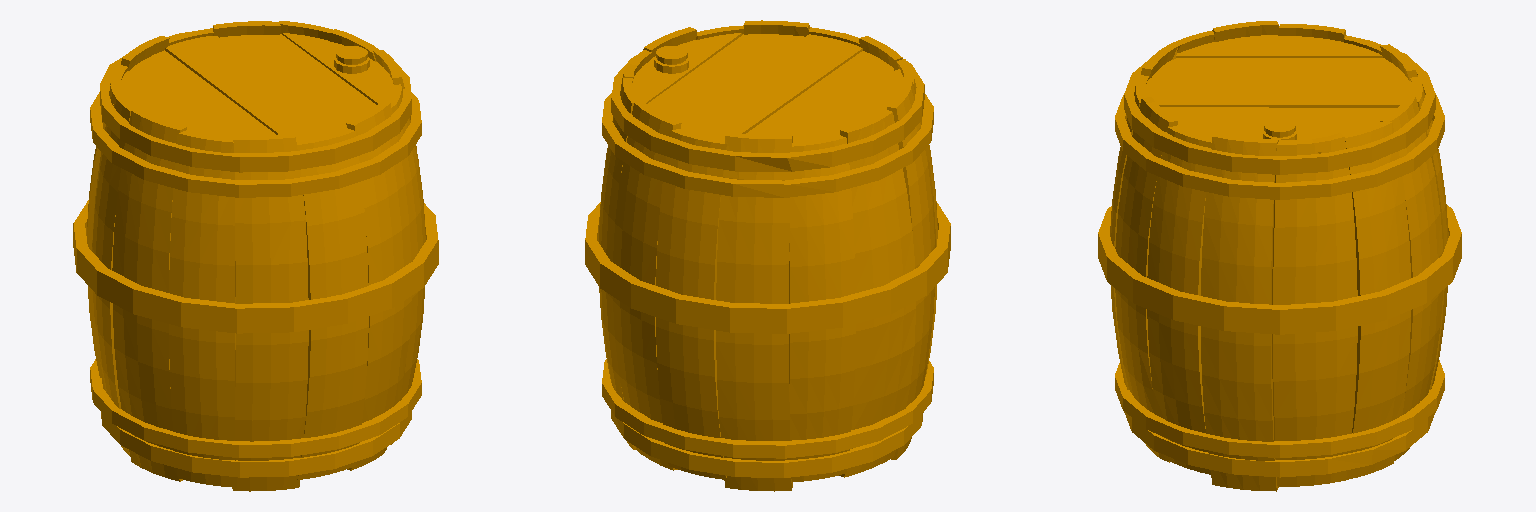
URDF robot description (mesh_object):
<robot name="mesh_object">
            <link name="base">
                <visual>
                    <geometry>
                        <mesh filename="barrel_4_v000.obj" scale="1 1 1" />
                    </geometry>
                </visual>
                <collision>
                    <geometry>
                        <mesh filename="barrel_4_v000.obj" scale="1 1 1" />
                    </geometry>
                </collision>
                <inertial>
                    <origin xyz="0.000000 0.000000 0.047089" rpy="0 0 0" />
                    <mass value="0.500000" />
                    <inertia ixx="0.01" iyy="0.01" izz="0.01" ixy="0" ixz="0" iyz="0" />
                </inertial>
            </link>
            </robot>

--- What the picture shows (computed from the rendered views, not written in the file) ---
Views: 3 orthographic renders of the robot side by side, from view 1: azimuth 30°, elevation 25°; view 2: azimuth 150°, elevation 25°; view 3: azimuth 270°, elevation 25°.
Model mesh_object with 1 links and 0 joints (none), rooted at base, posed every joint at zero.
Visible links, largest first — view 1: base; view 2: base; view 3: base.
Boxes of the visible links, left/top/right/bottom form: base: left=73, top=21, right=438, bottom=491; base: left=585, top=20, right=950, bottom=491; base: left=1098, top=21, right=1461, bottom=491.
Size in the robot's own frame: 0.0883 by 0.0883 by 0.0942 metres.
1 mesh visuals loaded from 1 distinct referenced files (1 OBJ).
